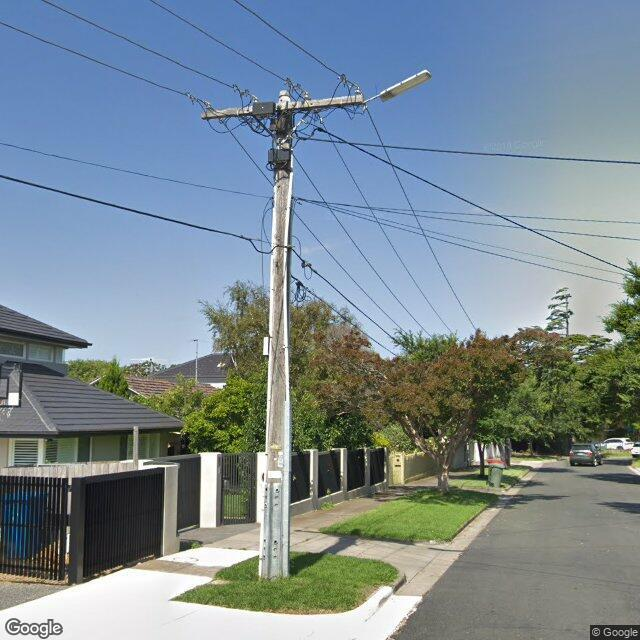crossarm: (202, 94, 364, 120)
streetlight: (363, 70, 433, 104)
timber-pole: (263, 90, 293, 580)
